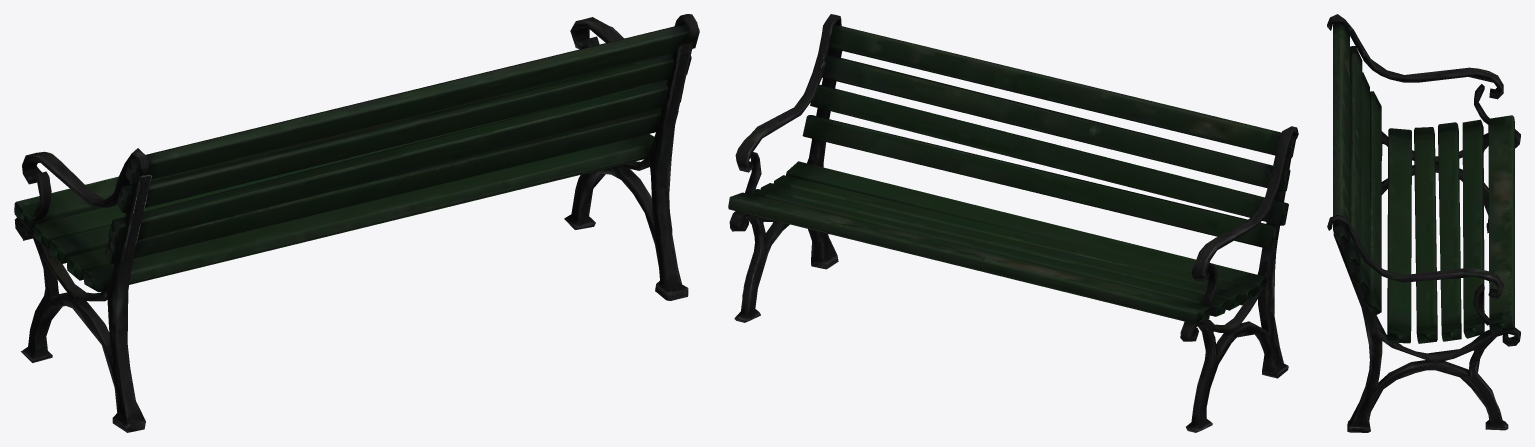
File: park_bench.glb
The picture shows the model from 3 angles, left to right: view 1: azimuth 30°, elevation 25°; view 2: azimuth 150°, elevation 25°; view 3: azimuth 270°, elevation 25°; orthographic projection. The views are drawn at different scales.
Visible parts, largest first — view 1: park_bench; view 2: park_bench; view 3: park_bench.
Part boxes in pixels (x1,y1,x2,y2): park_bench: [14, 14, 699, 432]; park_bench: [728, 14, 1298, 432]; park_bench: [1327, 14, 1520, 432].
Size of the model in its own units: 1.85 by 0.9 by 0.7337.
1 material, 1 textured.
